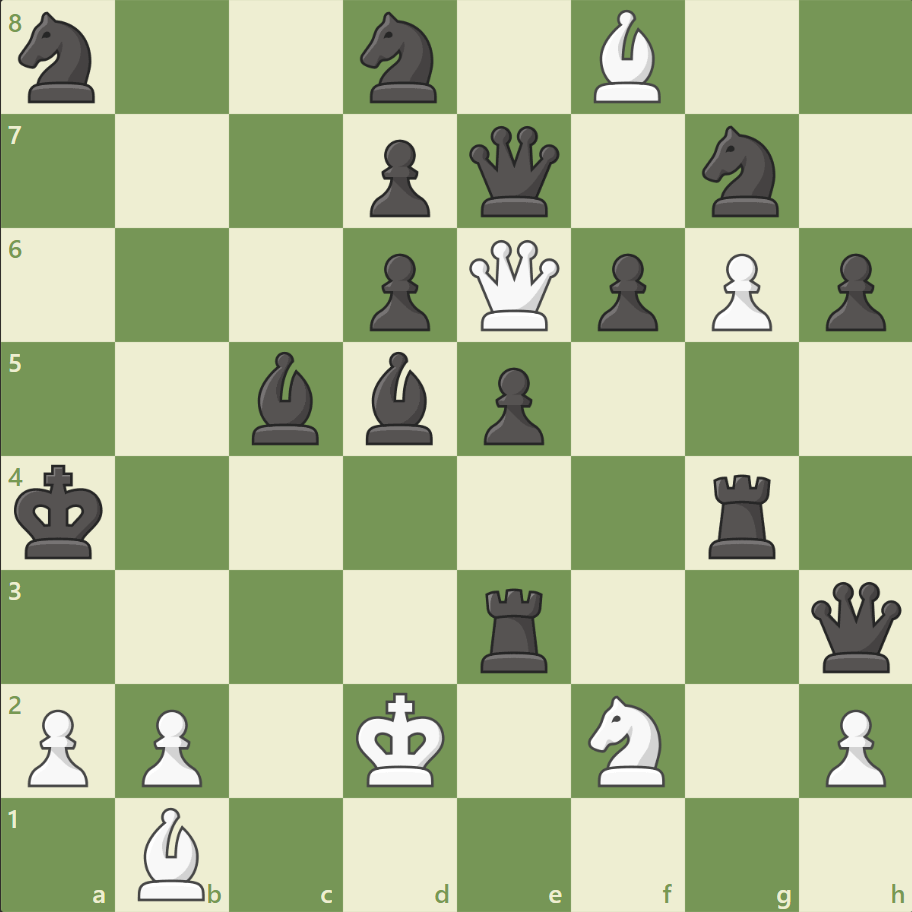B: (585, 6, 669, 109), (131, 801, 215, 904)
K: (351, 685, 451, 793)
N: (579, 688, 676, 791)
P: (701, 246, 776, 337), (20, 700, 95, 791), (133, 700, 208, 791), (815, 700, 889, 791)
Q: (464, 236, 563, 335)
b: (244, 347, 328, 449), (358, 347, 442, 449)
k: (11, 458, 111, 566)
n: (351, 7, 449, 110), (11, 7, 108, 110), (692, 121, 789, 223)
p: (474, 359, 549, 450), (361, 132, 435, 223), (361, 246, 435, 337), (588, 246, 662, 337), (815, 246, 889, 337)
q: (464, 122, 563, 222), (805, 576, 904, 676)
r: (700, 466, 783, 563), (473, 579, 556, 676)
